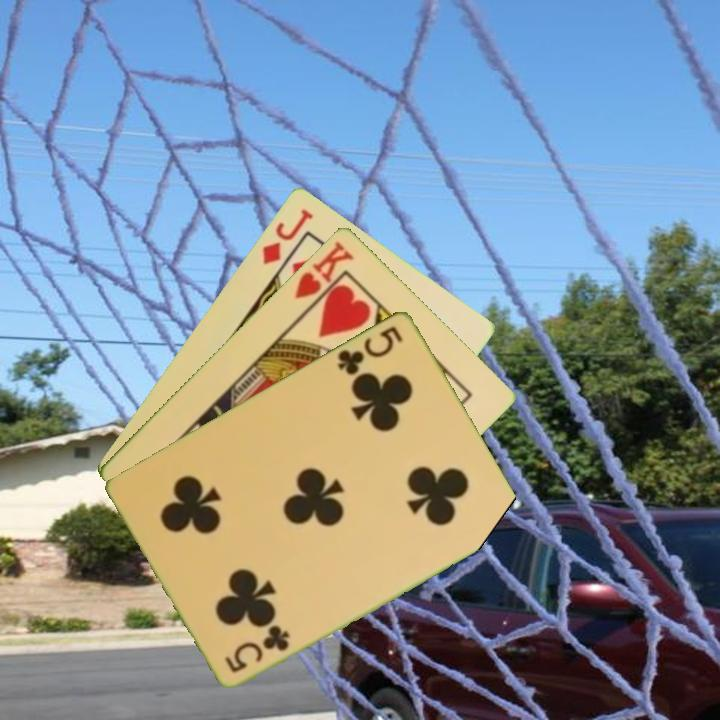5c: (333, 322, 406, 378), (221, 622, 293, 675)
Jd: (258, 204, 316, 268)
Kh: (291, 236, 357, 314)
